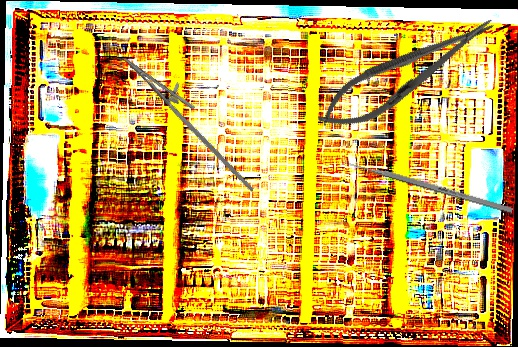Needle Holder: (308, 3, 506, 144), (110, 47, 276, 192)
Pusher: (337, 157, 514, 214)
